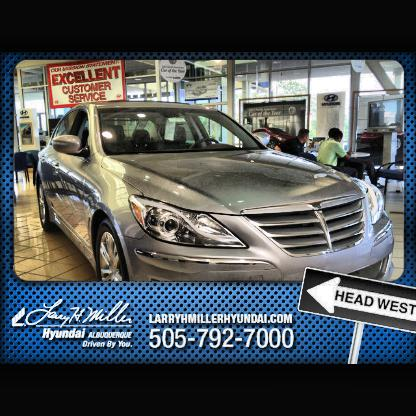Hyundai Genesis Sedan 2012: (36, 103, 396, 314)
